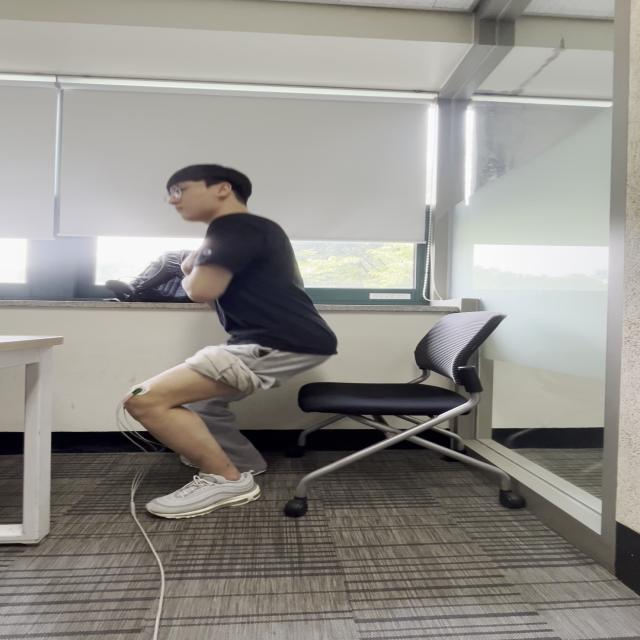stand: (98, 358, 286, 523), (176, 222, 330, 417), (115, 323, 349, 444)
